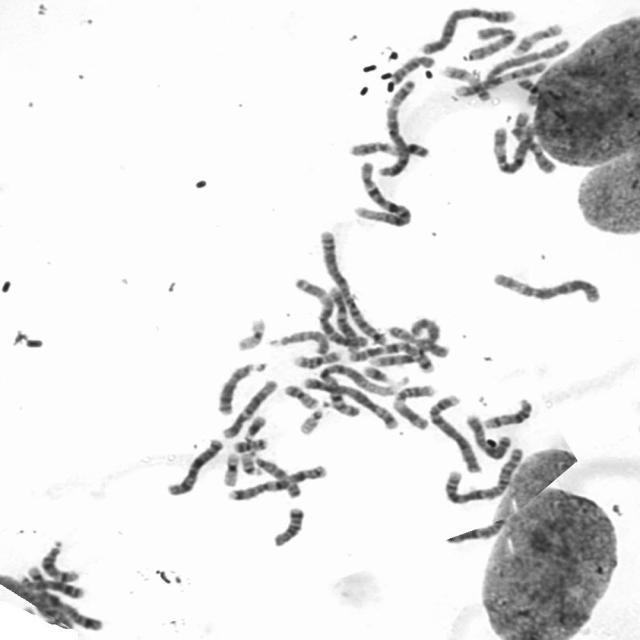A1: (314, 360, 399, 421), (349, 157, 414, 228)
A2: (315, 226, 389, 347), (441, 443, 526, 505)
A3: (292, 273, 369, 351), (375, 75, 417, 179)
B4: (417, 2, 519, 56), (426, 390, 484, 475)
B5: (19, 563, 105, 633), (310, 372, 403, 432)
C10: (510, 110, 558, 175), (461, 23, 519, 62)
C11: (390, 381, 438, 431), (344, 137, 434, 159)
C12: (218, 376, 279, 440), (324, 282, 366, 351)
C6: (487, 267, 604, 305), (488, 111, 535, 176)
C7: (224, 461, 328, 502), (344, 337, 437, 374)
C8: (478, 33, 572, 90), (386, 316, 440, 346)
C9: (451, 57, 549, 98), (365, 341, 449, 368)
D13: (214, 357, 268, 416), (17, 569, 86, 600)
D14: (479, 394, 536, 431), (36, 538, 80, 584)
D15: (251, 453, 304, 499), (266, 326, 334, 355)
E16: (290, 347, 344, 370), (516, 75, 544, 108)
E17: (439, 60, 494, 102), (508, 19, 566, 56)
E18: (387, 52, 437, 86), (269, 503, 306, 548)
F19: (233, 313, 268, 352), (219, 448, 242, 488)
F20: (280, 380, 320, 410), (230, 435, 270, 453)
G21: (240, 411, 268, 441), (359, 362, 394, 385)
G22: (296, 404, 326, 436), (237, 448, 264, 477)
X: (162, 434, 225, 498), (462, 410, 515, 460)
